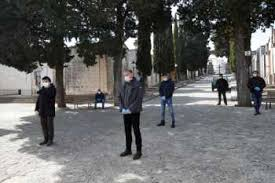Good: (35, 66, 145, 161), (119, 65, 181, 161), (29, 75, 109, 147), (92, 65, 146, 162), (157, 71, 230, 129), (214, 68, 267, 117)
